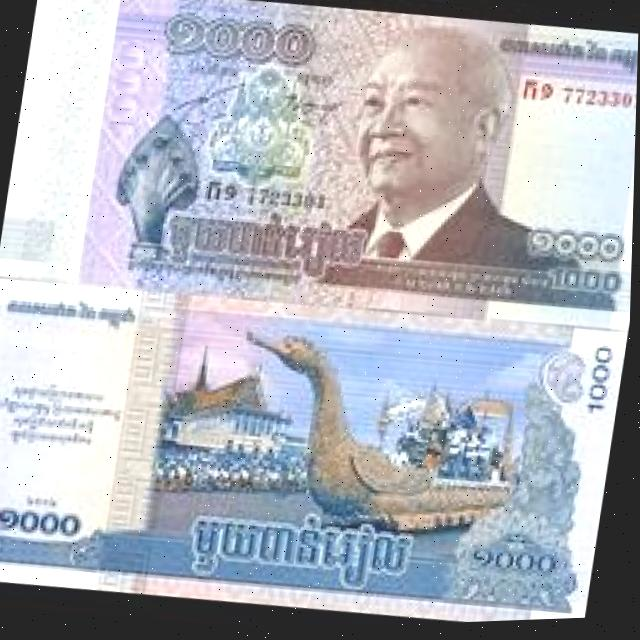banknote: (0, 256, 630, 640), (0, 0, 640, 353), (536, 260, 631, 317), (576, 340, 625, 421)
